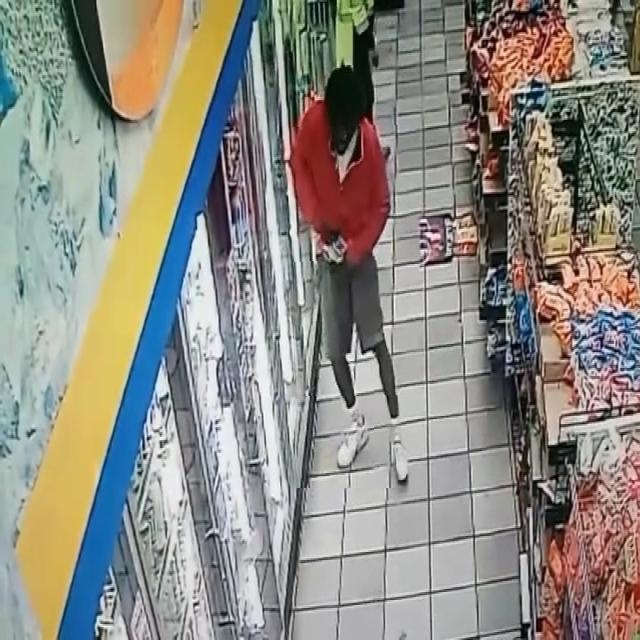Shoplifting: (292, 57, 406, 488)
